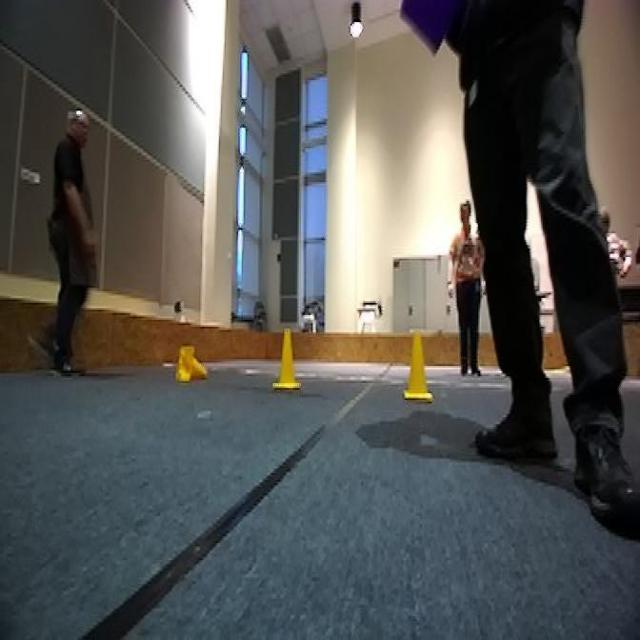frc_cone: (396, 332, 440, 400), (270, 330, 304, 390), (175, 346, 206, 381)
frc_cube: (397, 0, 462, 56)
